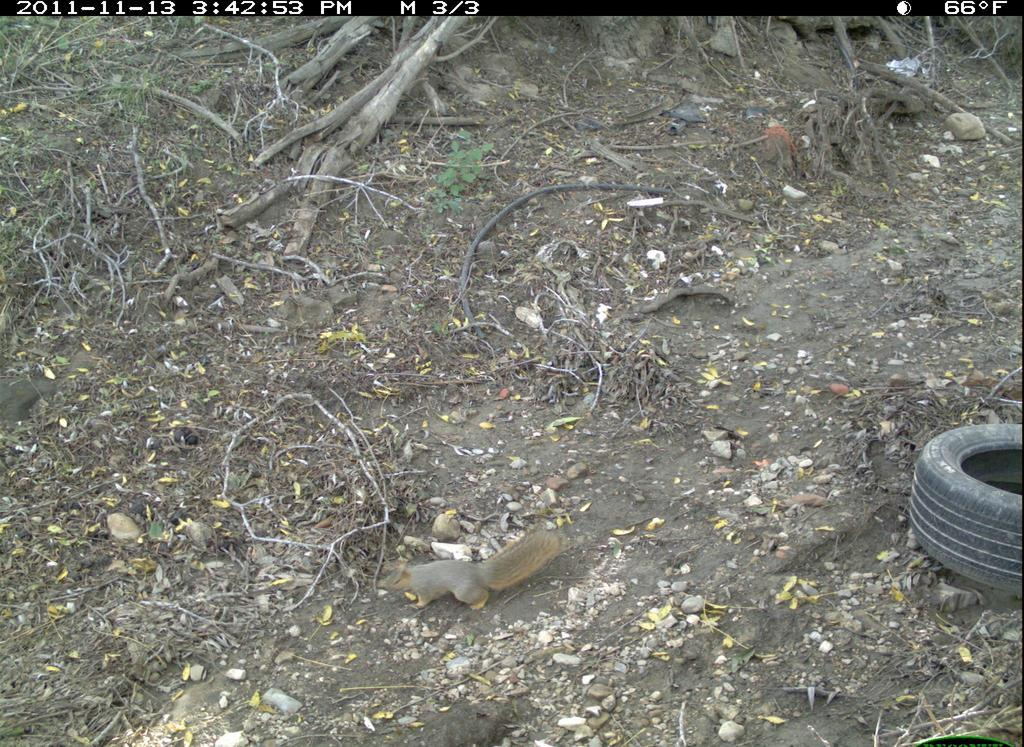squirrel: (377, 524, 569, 620)
